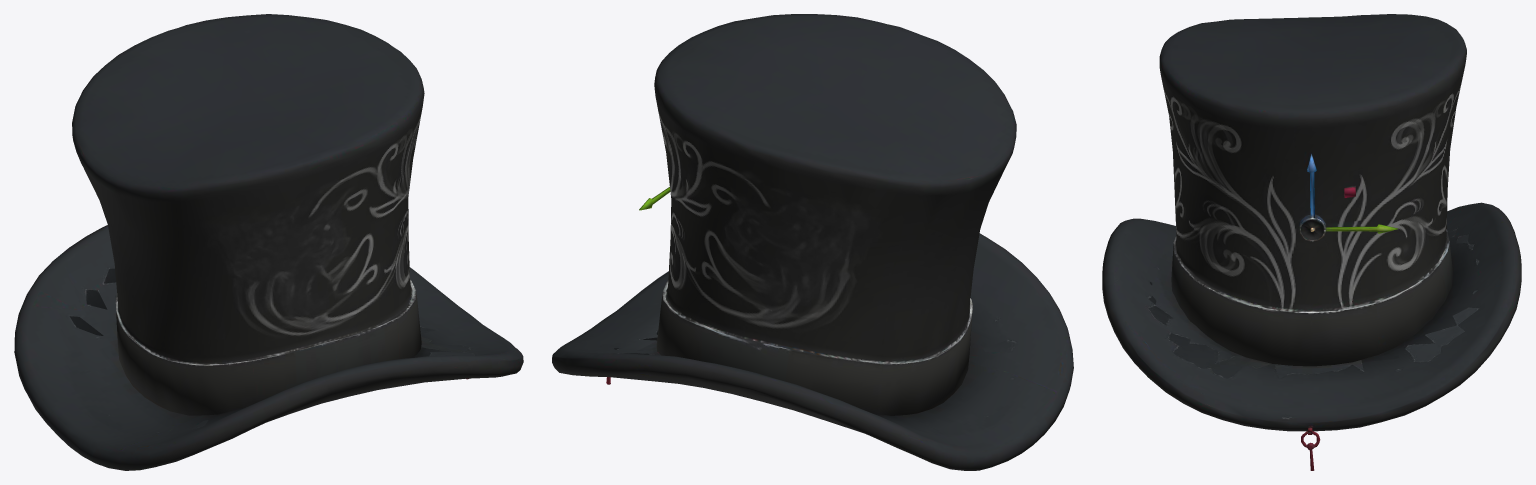
3 views of the same model, side by side, from view 1: azimuth 30°, elevation 25°; view 2: azimuth 150°, elevation 25°; view 3: azimuth 270°, elevation 25° (orthographic). The views are drawn at different scales.
Visible parts, largest first — view 1: tripo_node_bebfd146-b059-4f47-87f7-586829ac0aef; view 2: tripo_node_bebfd146-b059-4f47-87f7-586829ac0aef; view 3: tripo_node_bebfd146-b059-4f47-87f7-586829ac0aef.
Boxes of the visible parts, box(x1,y1,x2,y2) form: tripo_node_bebfd146-b059-4f47-87f7-586829ac0aef: box(14, 14, 523, 470); tripo_node_bebfd146-b059-4f47-87f7-586829ac0aef: box(552, 14, 1073, 470); tripo_node_bebfd146-b059-4f47-87f7-586829ac0aef: box(1102, 14, 1521, 470).
Size of the model in its own units: 0.998 by 0.8145 by 0.9395.
1 material, 1 textured.
